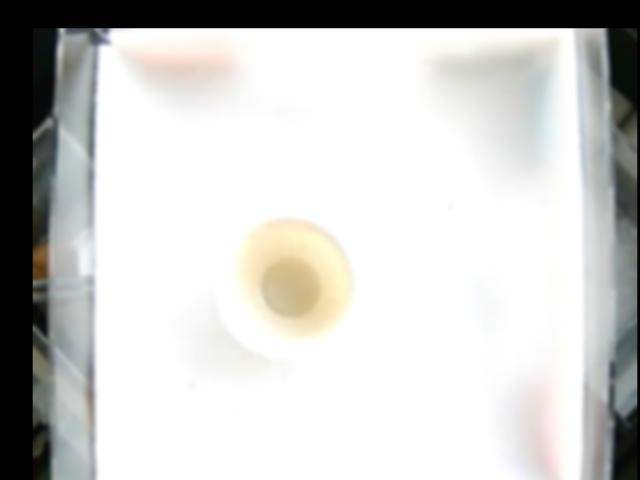Cup: (218, 215, 357, 357)
